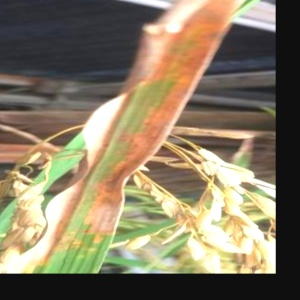Leaf_Blast: (66, 77, 156, 274)
